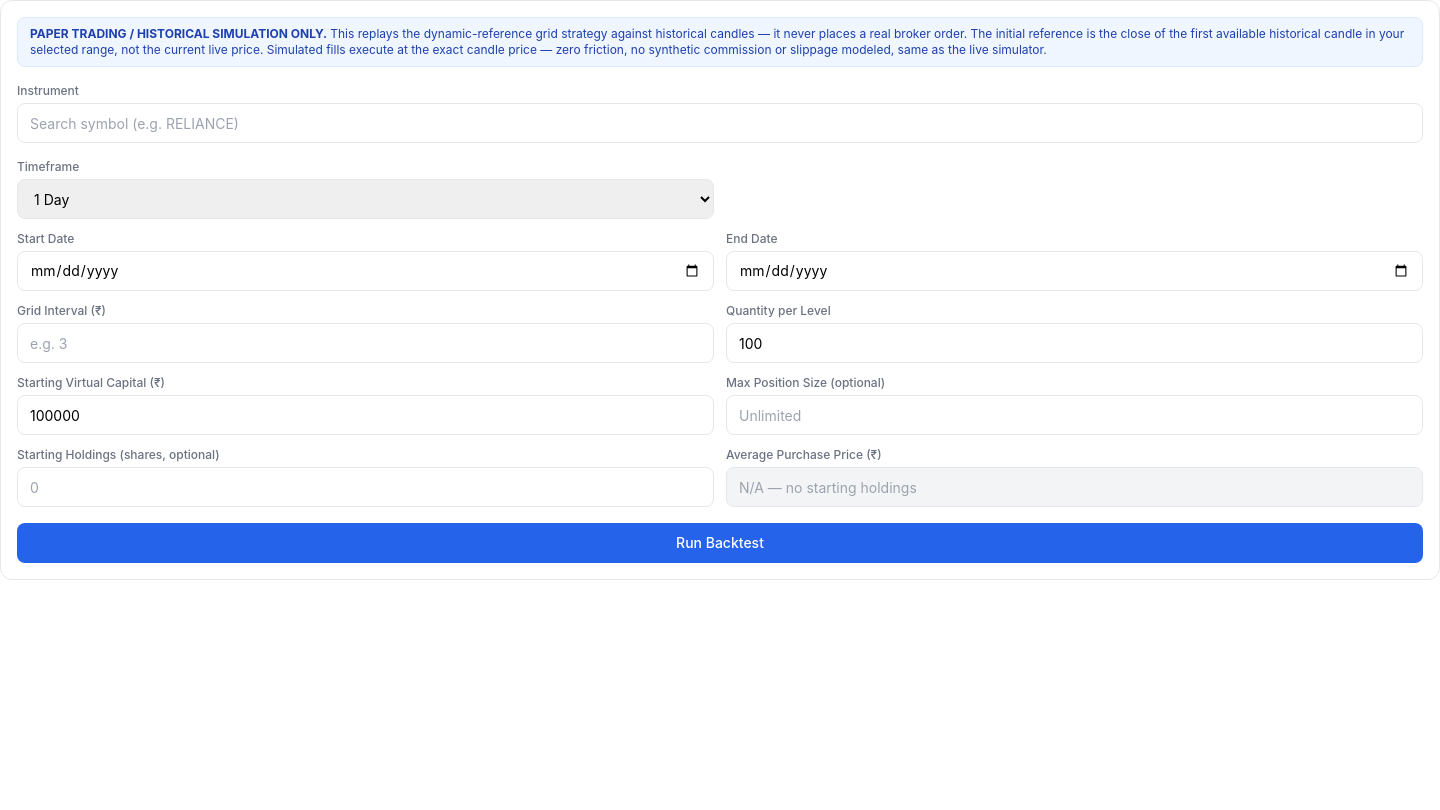
Test: GridBacktestCreateForm › rejects submission with no instrument selected
Type "2026-01-01" into the date field labelled "Start Date" at coordinates (366, 271), box [17,251,714,291]
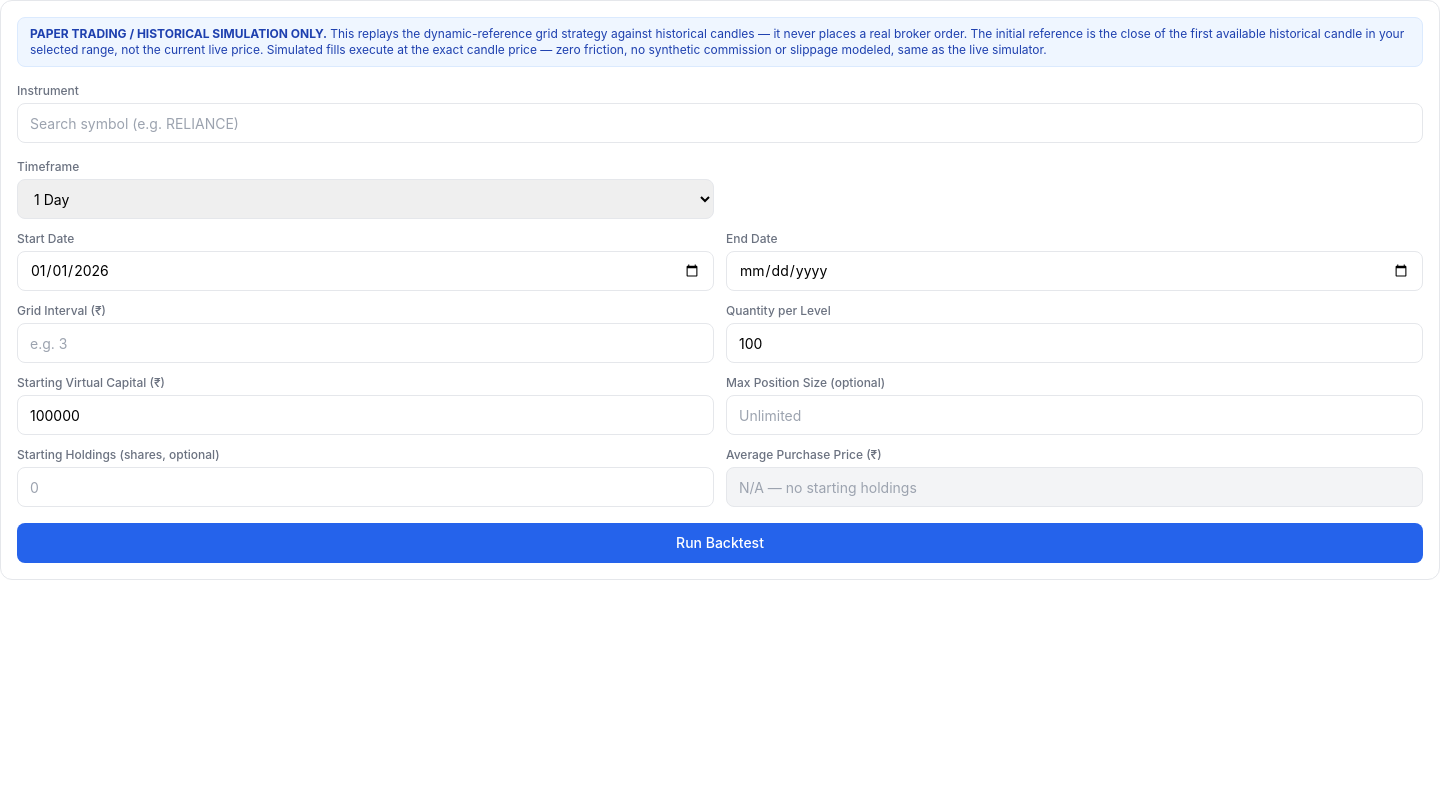
Type "2026-02-01" into the date field labelled "End Date" at coordinates (1074, 271), box [726,251,1423,291]
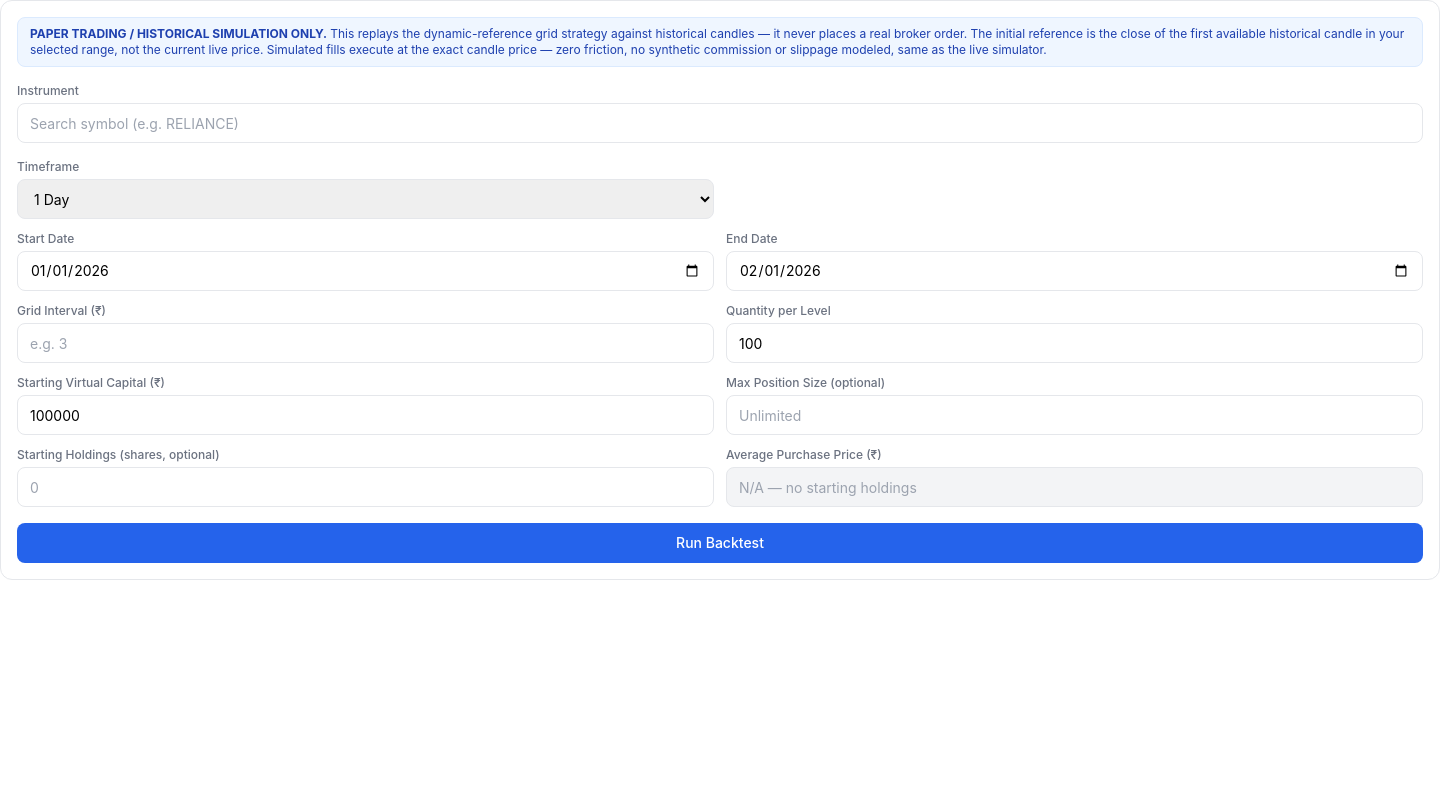
Type "3" into the number field with placeholder "e.g. 3" at coordinates (366, 343), box [17,323,714,363]
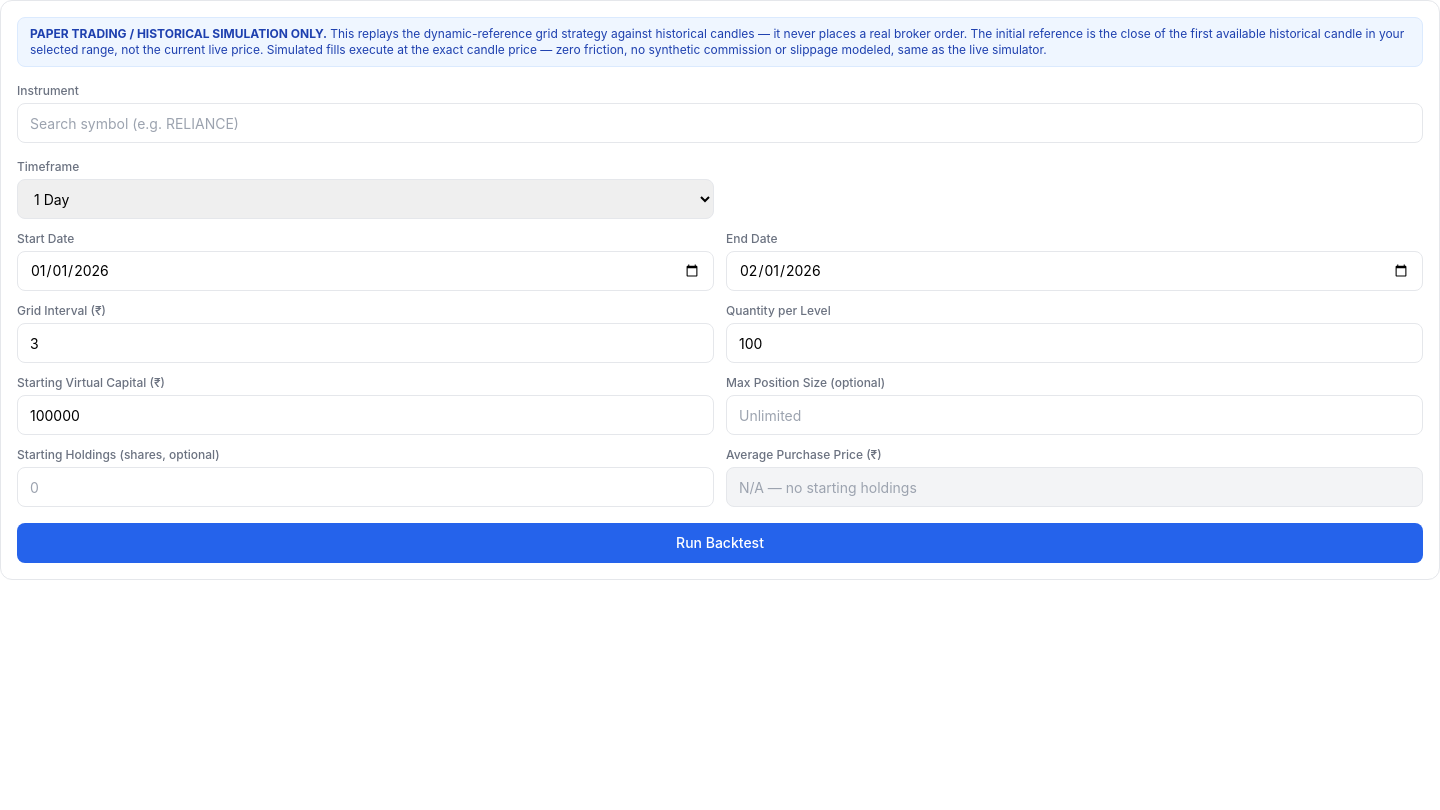
Click the button "Run Backtest" at coordinates (720, 543), box [17,523,1423,563]
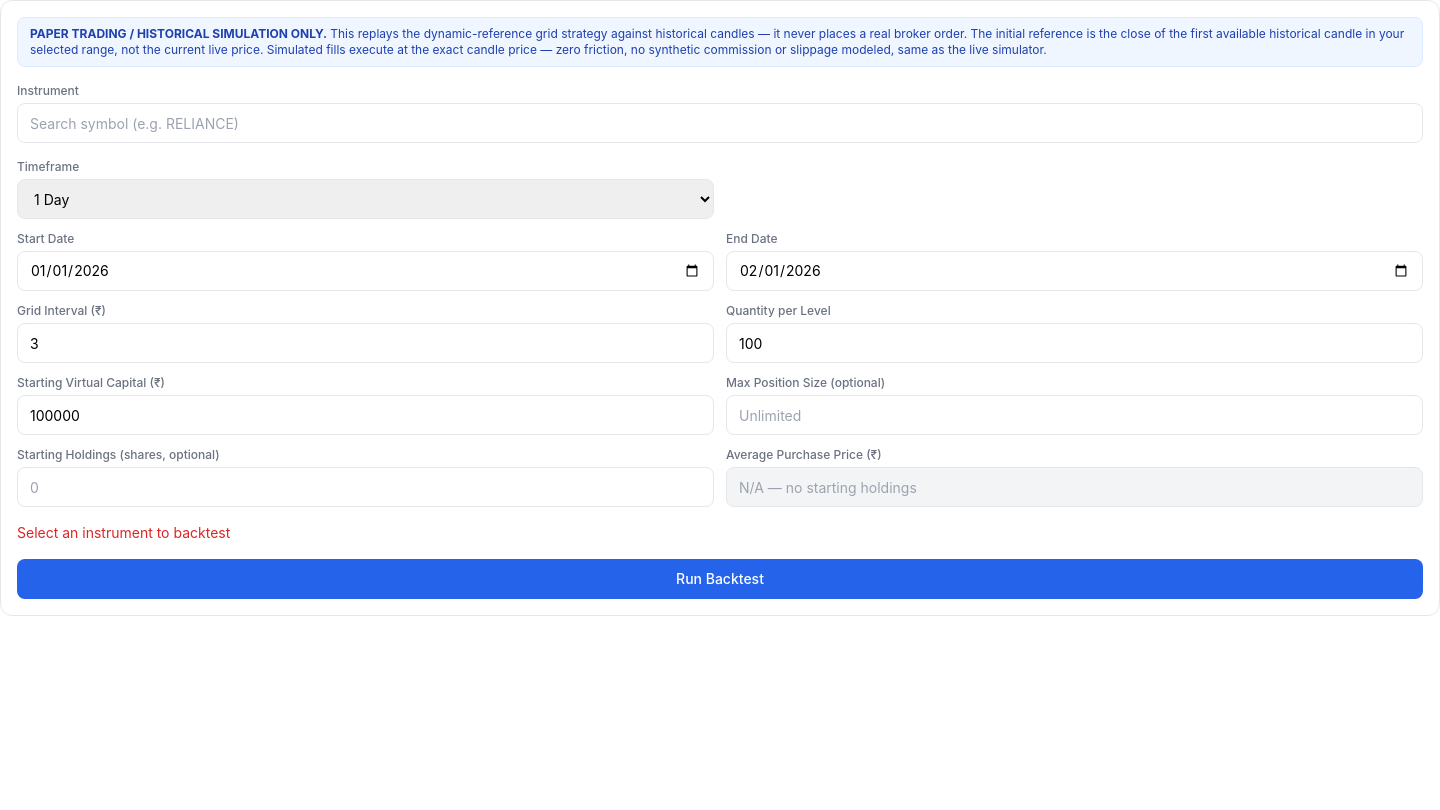
Check: the text "Select an instrument to backtest" is shown, box [17,524,230,541]
